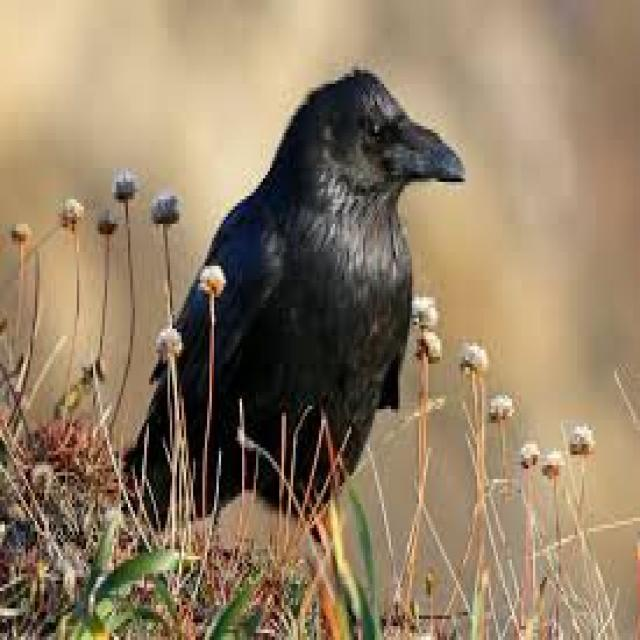crow: (290, 46, 456, 410)
